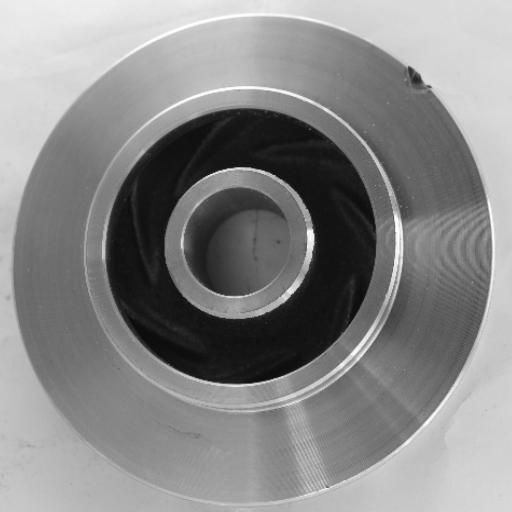crack: (398, 49, 445, 107)
unpolished_casting: (12, 14, 493, 505)
